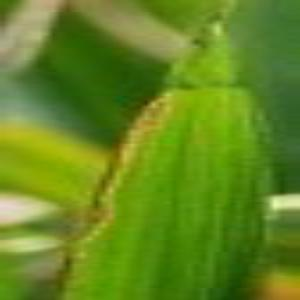Bacterial_Blight: (43, 8, 238, 284)
